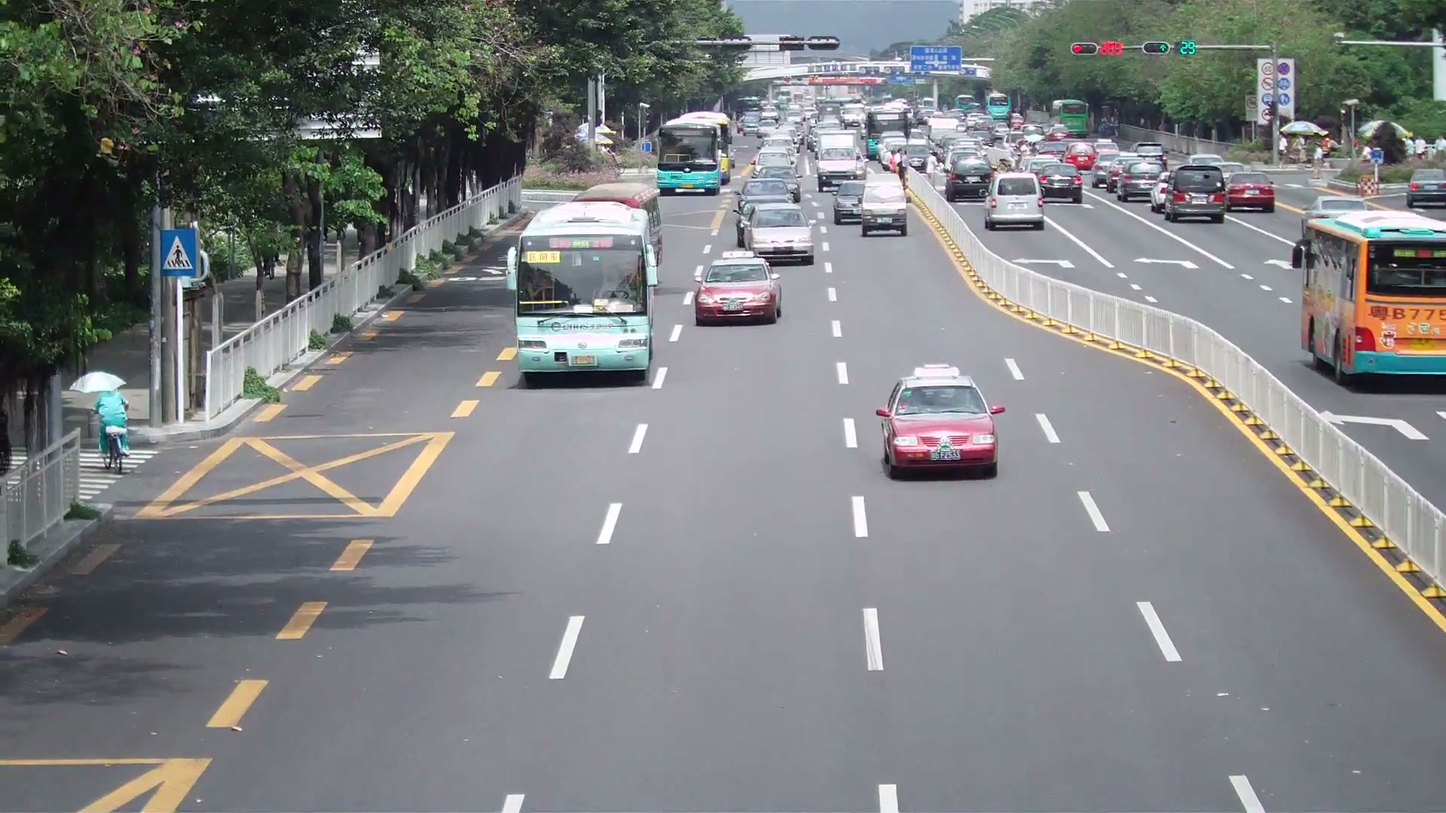bus: (1292, 207, 1445, 388), (512, 199, 658, 383), (657, 110, 734, 195)
car: (875, 368, 1006, 480), (694, 251, 782, 325), (737, 201, 814, 267), (1160, 166, 1229, 224), (983, 172, 1046, 231), (859, 180, 908, 236), (1028, 160, 1085, 205), (1225, 177, 1275, 212), (1406, 168, 1445, 209), (832, 180, 866, 225), (1115, 174, 1156, 202)
pedestrian: (95, 389, 131, 470)
truck: (811, 129, 866, 189)
